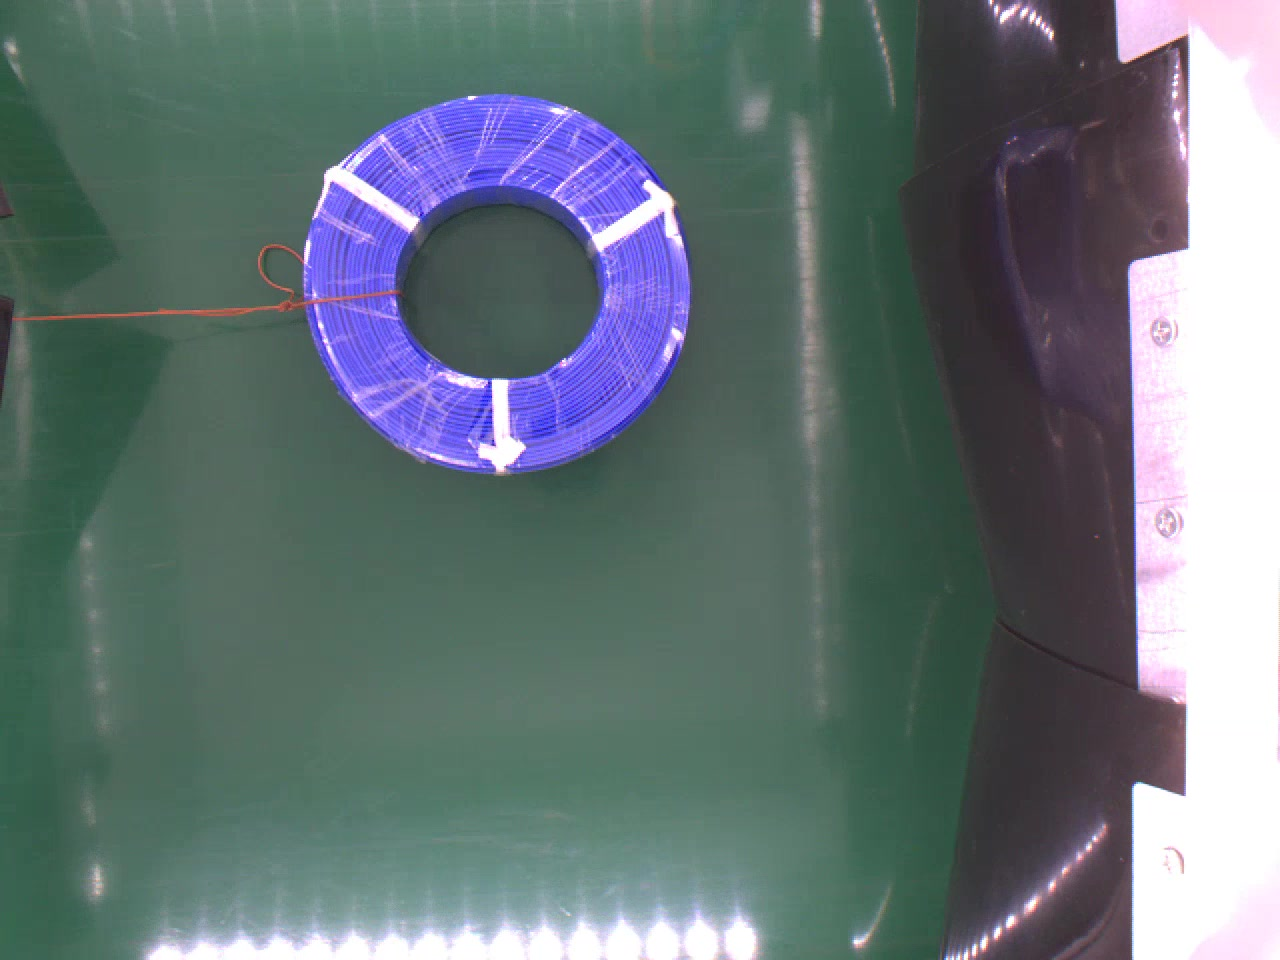blue: (298, 86, 697, 479)
